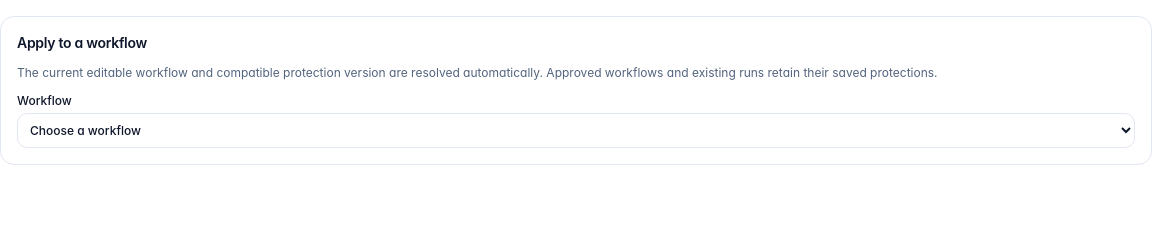
Test: gives an actionable issue for an approved workflow without saving protections
The image size is (1152, 232).
Select "Historical workflow — needs an editable revision" in the dropdown named "Guardrail workflow": (576, 130) [17, 113, 1135, 148]
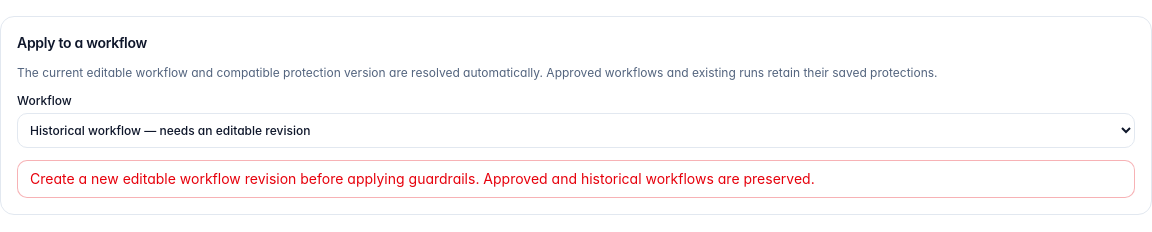
Check: the text "Create a new editable" is shown, box [30, 170, 815, 187]
